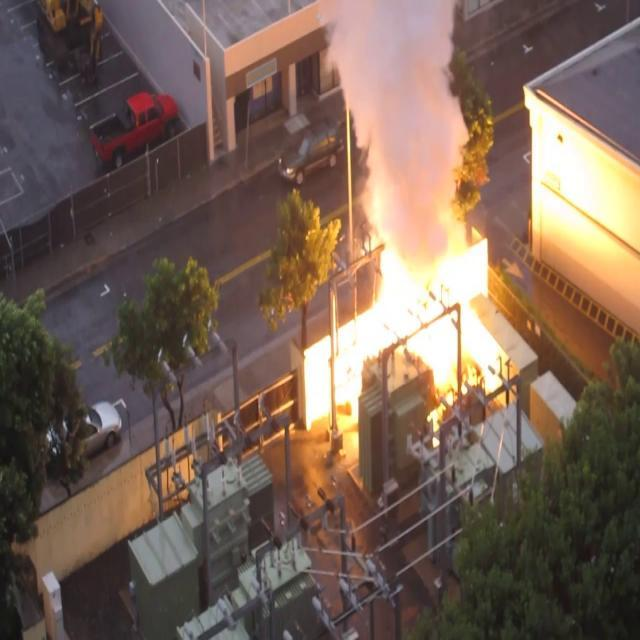Fire: (296, 184, 512, 428)
Smoke: (318, 0, 478, 212), (0, 1, 92, 212)
